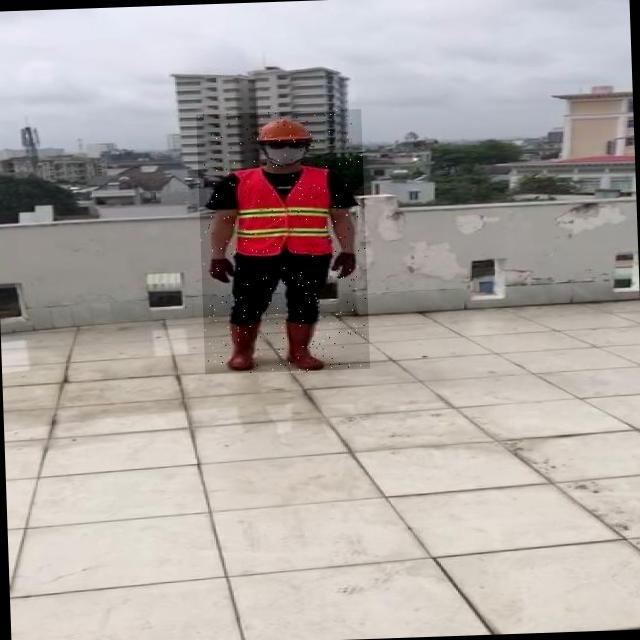Gloves: (333, 250, 356, 281), (206, 259, 235, 282)
Helmet: (255, 116, 310, 141)
Human: (196, 109, 370, 375)
Safety Boot: (282, 319, 328, 372), (224, 319, 262, 372)
Safety Vest: (235, 166, 332, 257)
